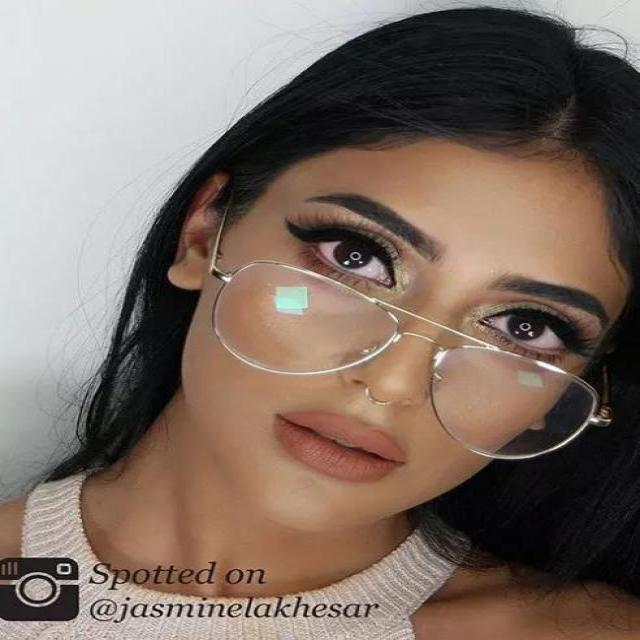glasses: (212, 199, 610, 459)
